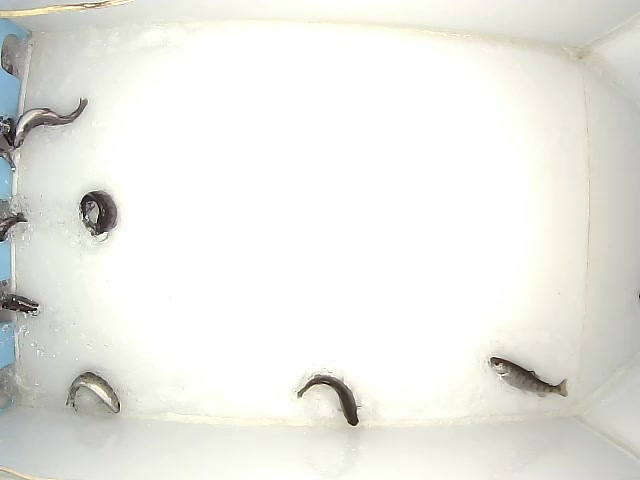fish: (12, 96, 89, 149), (296, 372, 362, 427), (486, 356, 569, 399), (65, 371, 121, 415), (78, 189, 119, 237)
